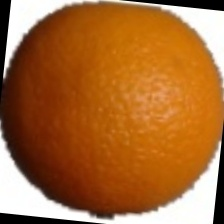orange: (15, 17, 213, 214)
